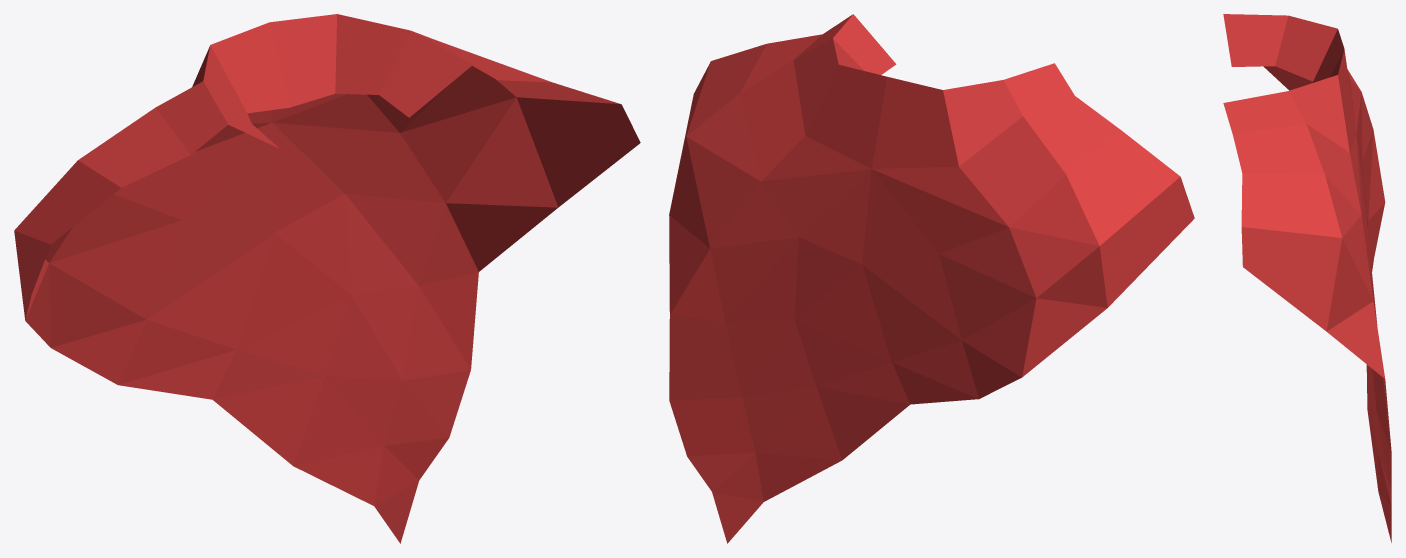
The model's file is newPepito_cape.FBX.
3 views of the same model, side by side, from view 1: azimuth 30°, elevation 25°; view 2: azimuth 150°, elevation 25°; view 3: azimuth 270°, elevation 25° (orthographic). The views are drawn at different scales.
Parts seen in each view (by area): view 1: CapeCloth; view 2: CapeCloth; view 3: CapeCloth.
Boxes of the visible parts, x1,y1,x2,y2 form: CapeCloth: (14, 14, 640, 543); CapeCloth: (669, 14, 1194, 543); CapeCloth: (1223, 14, 1391, 542).
Bounding box in the file's own units: 20.59 × 6.61 × 18.88.
